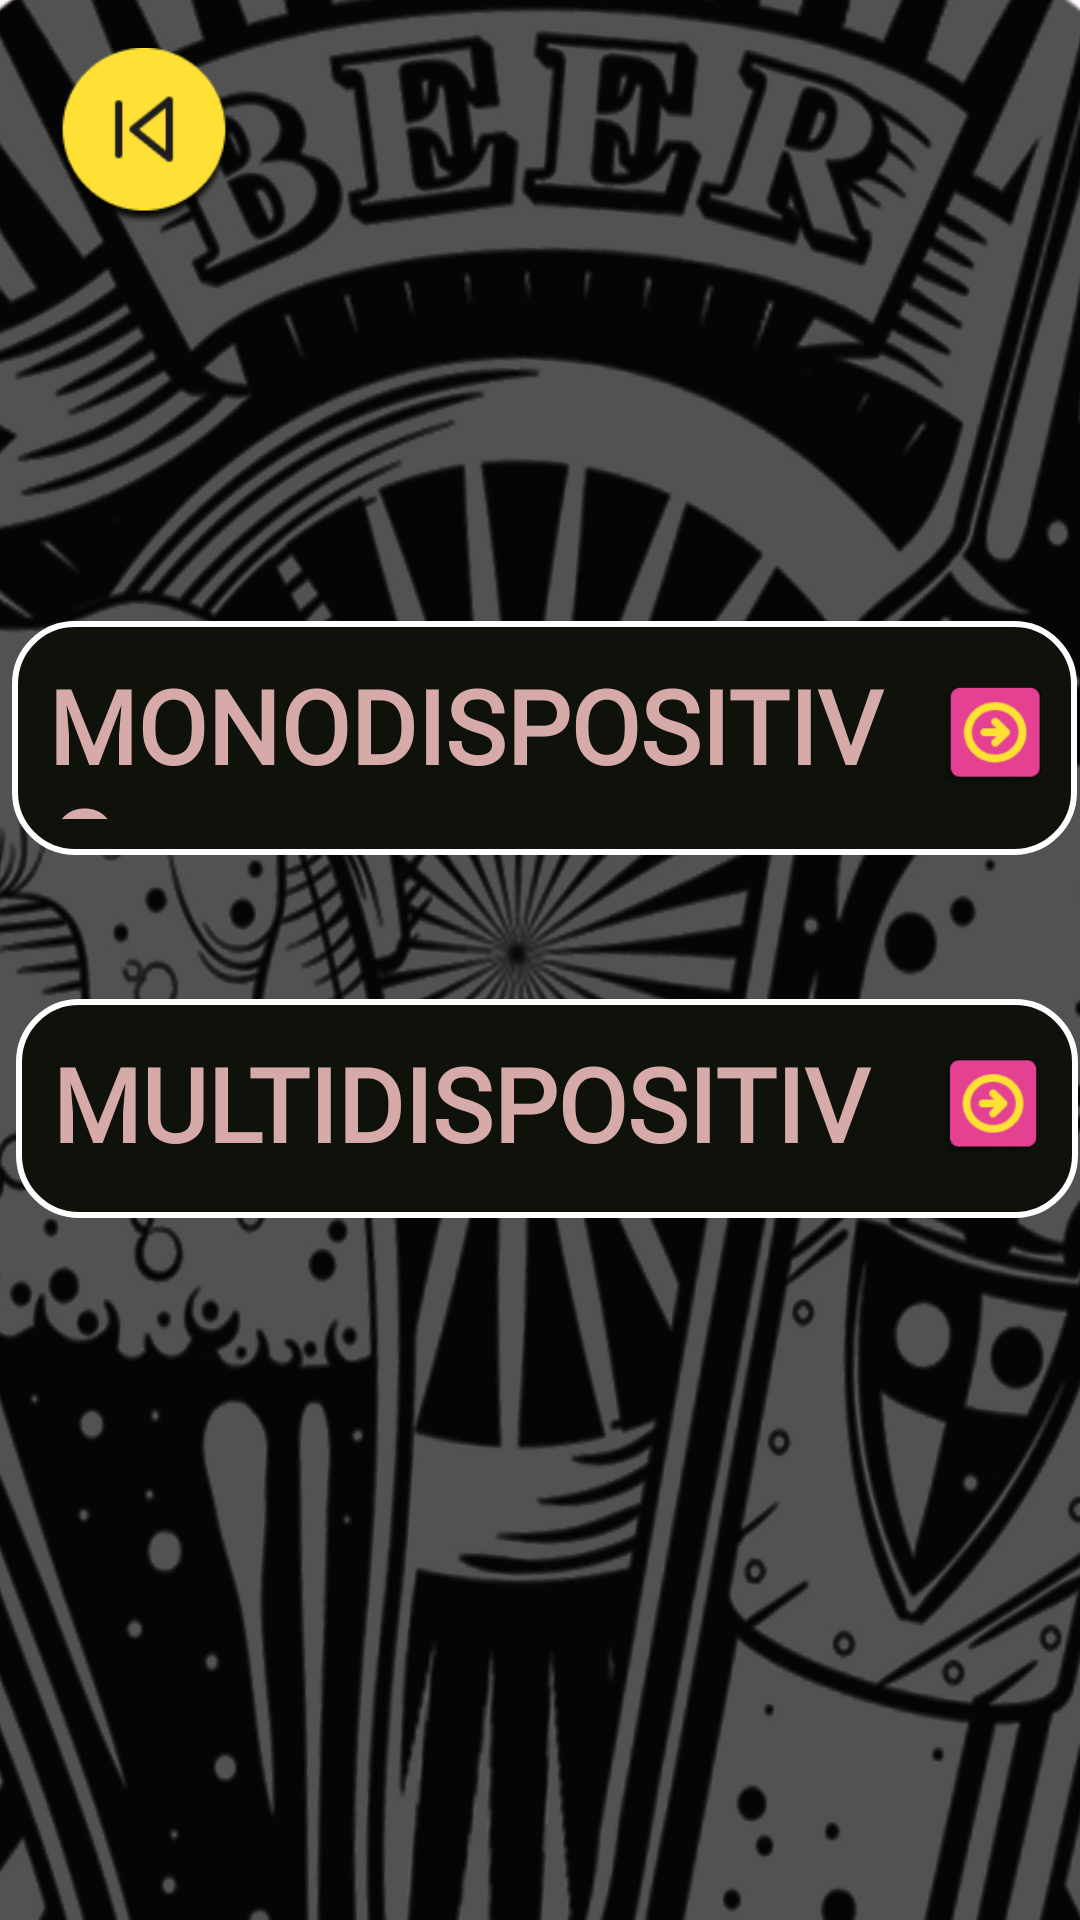

Screen size 1080px x 1920px. Icon name, then its center in pixels as [x,y]:
Botón de retroceso: [144,136]
next: [995,732], [993,1103]
